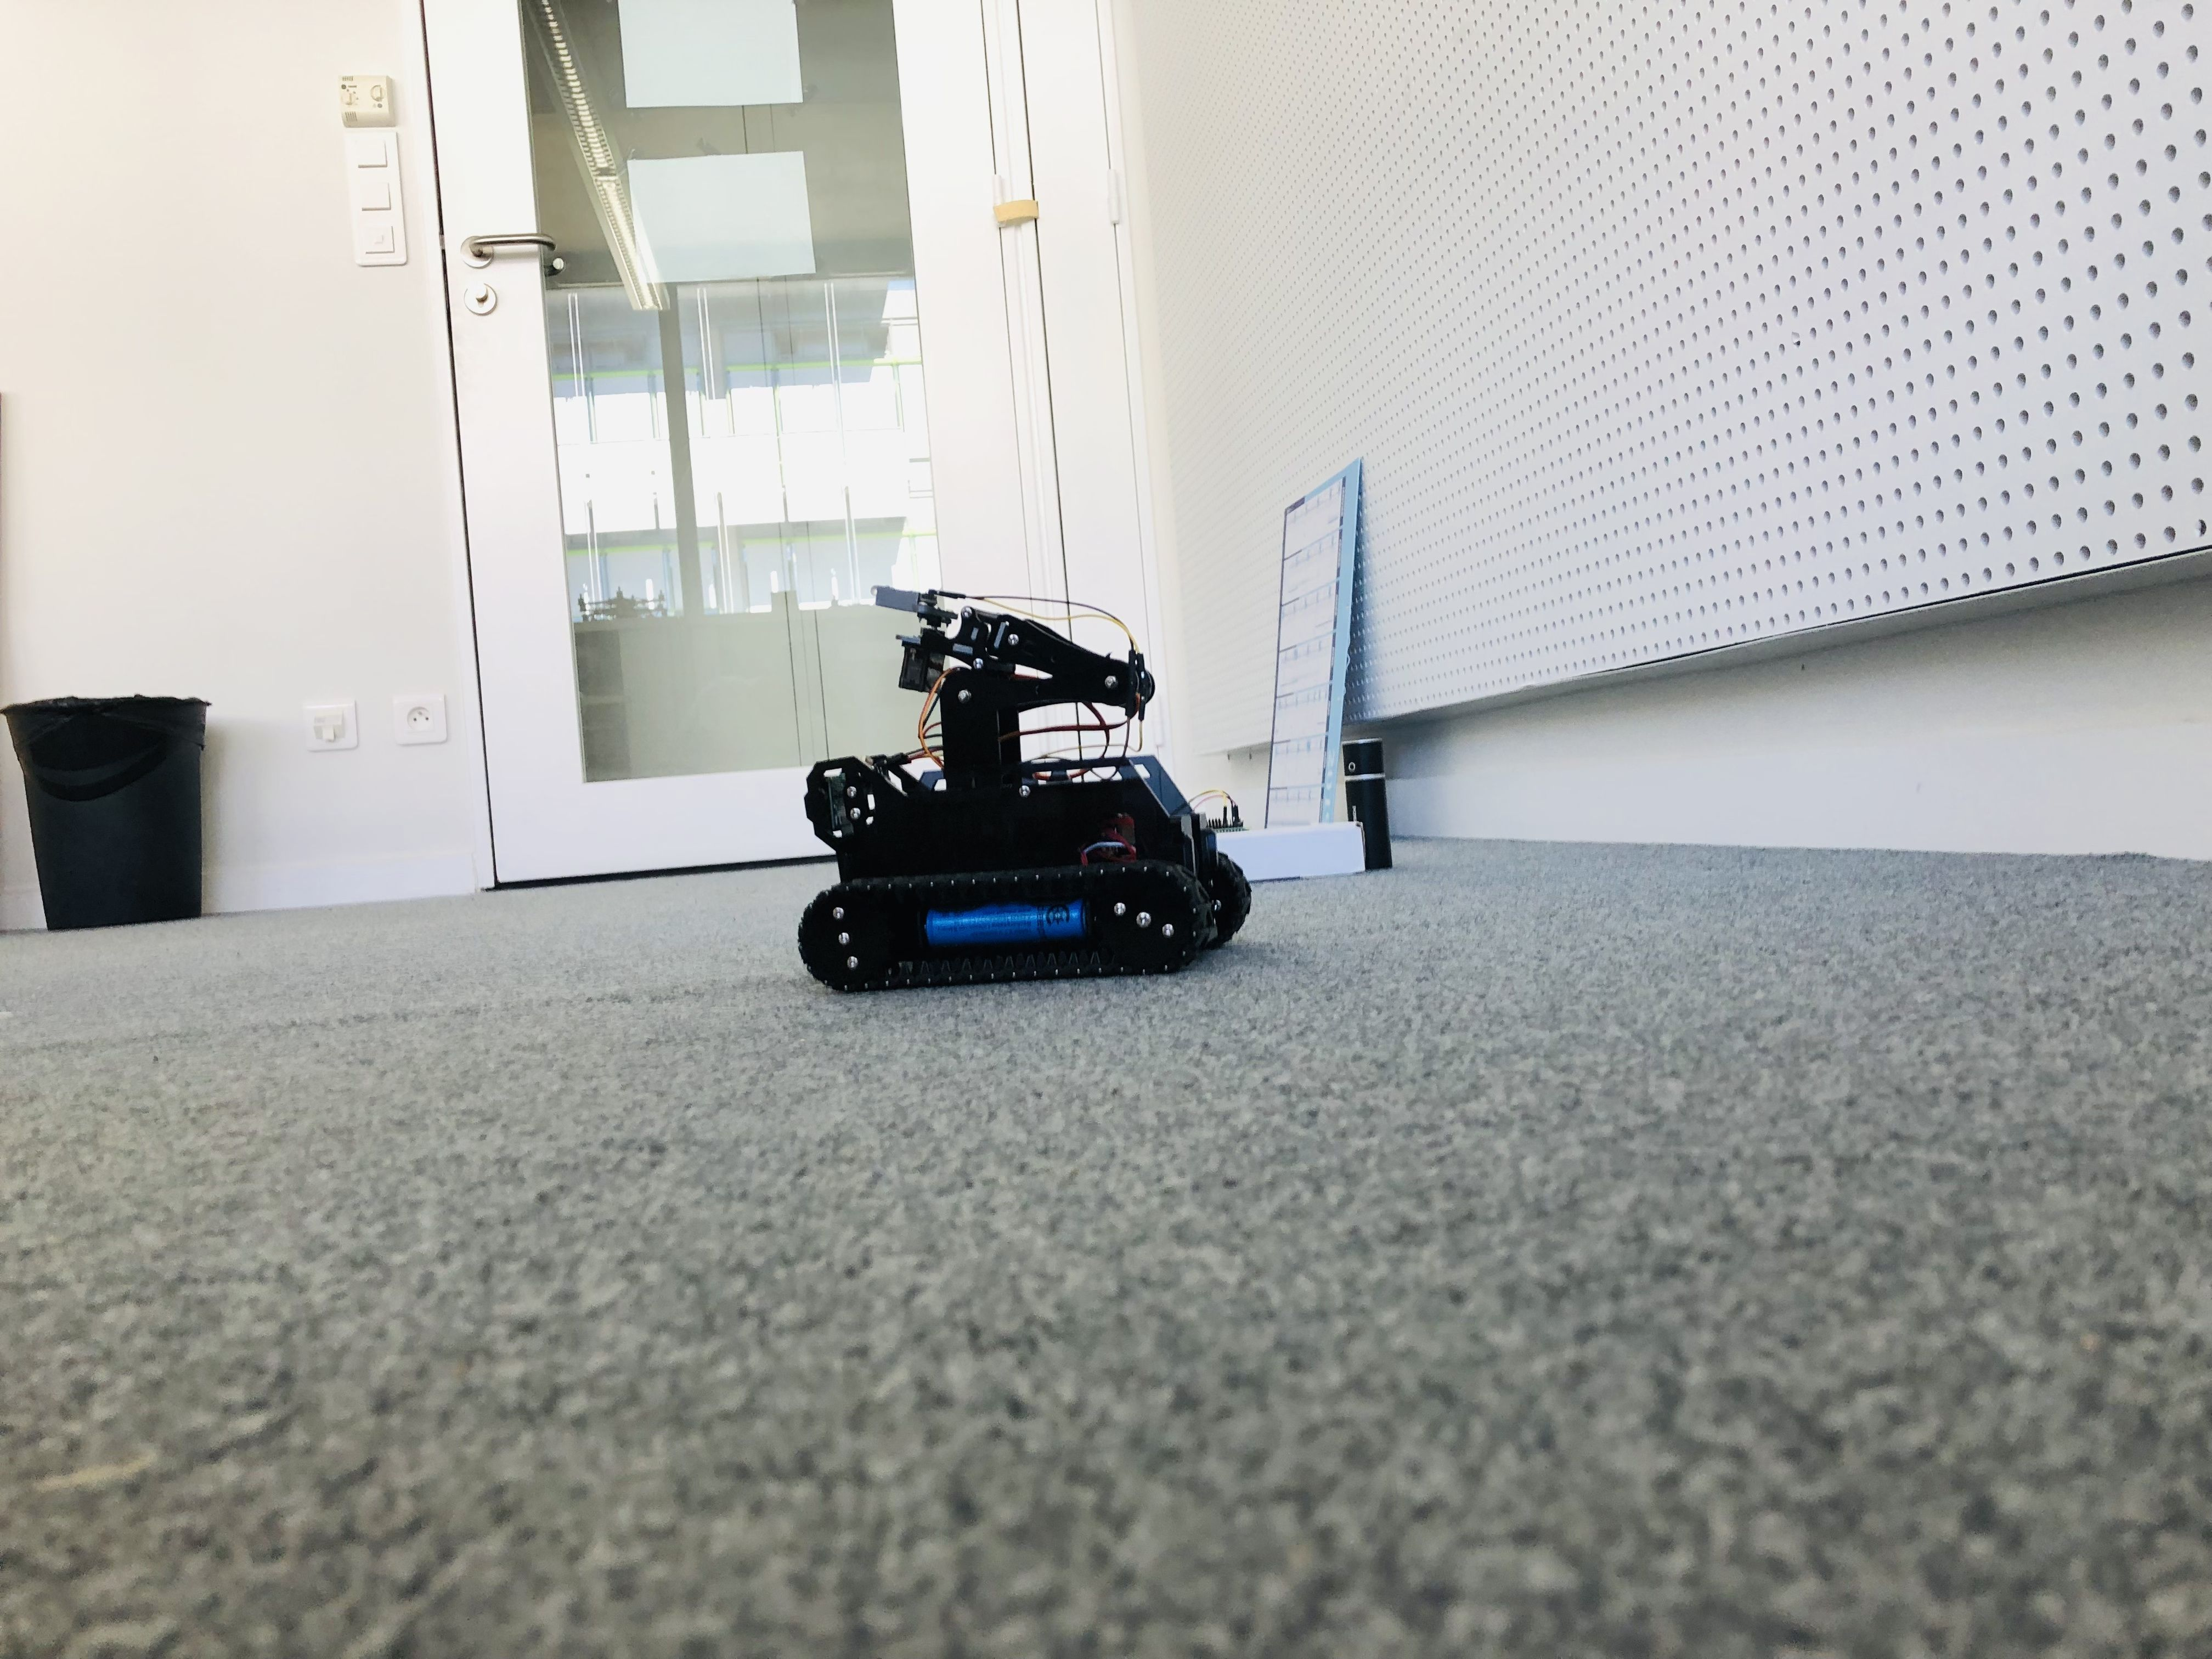rasptank: (796, 570, 1261, 1002)
